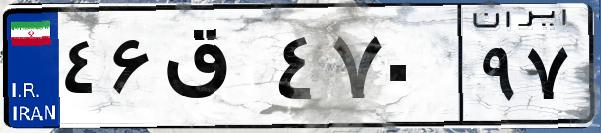0: (385, 28, 445, 110)
4: (270, 28, 330, 110), (57, 26, 110, 100)
6: (110, 28, 158, 98)
7: (330, 28, 385, 110), (525, 38, 570, 115)
9: (475, 38, 525, 113)
ق: (158, 20, 270, 120)
